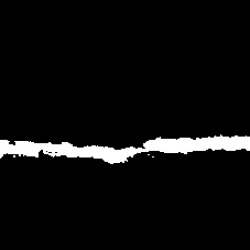crack: (1, 137, 250, 163)
